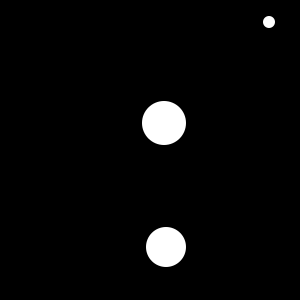rectangle: (142, 101, 186, 145), (146, 227, 186, 267), (263, 16, 275, 28)
